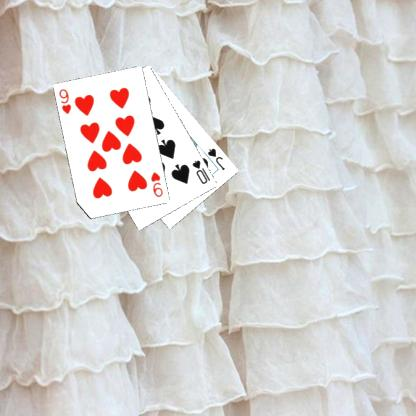10S: (190, 157, 212, 186)
9H: (56, 86, 73, 116), (148, 169, 164, 199)
JS: (205, 145, 226, 172)
